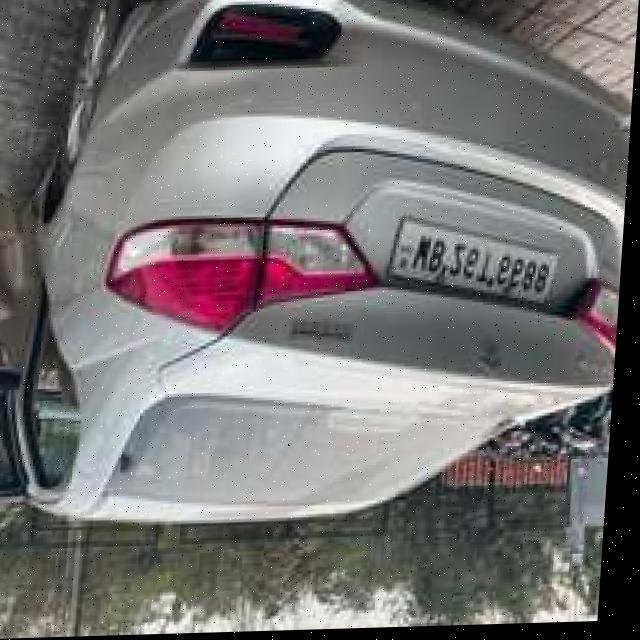plate: (389, 209, 566, 317)
